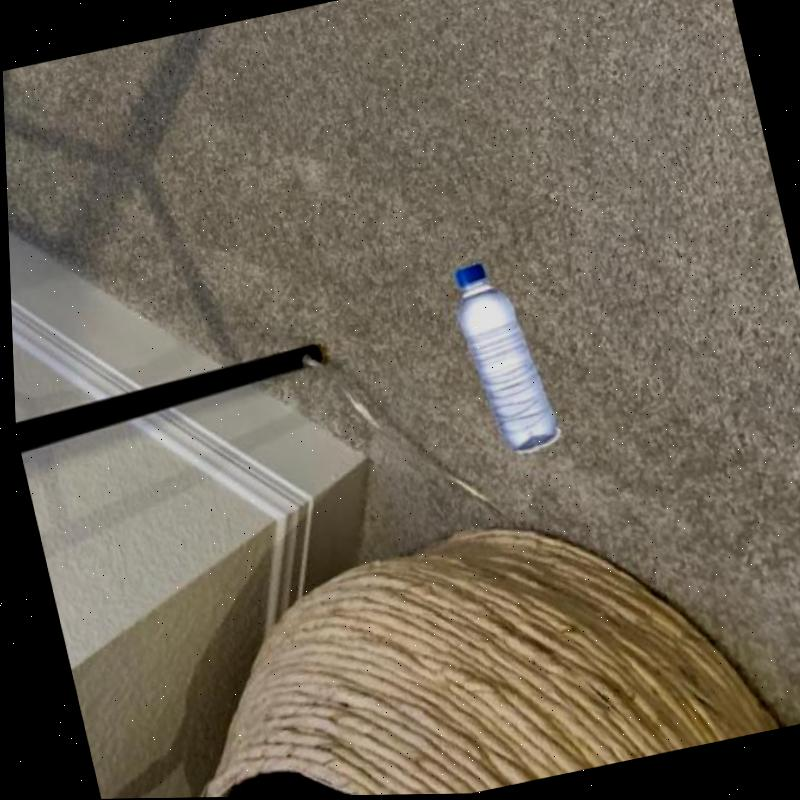botella: (440, 257, 556, 461)
